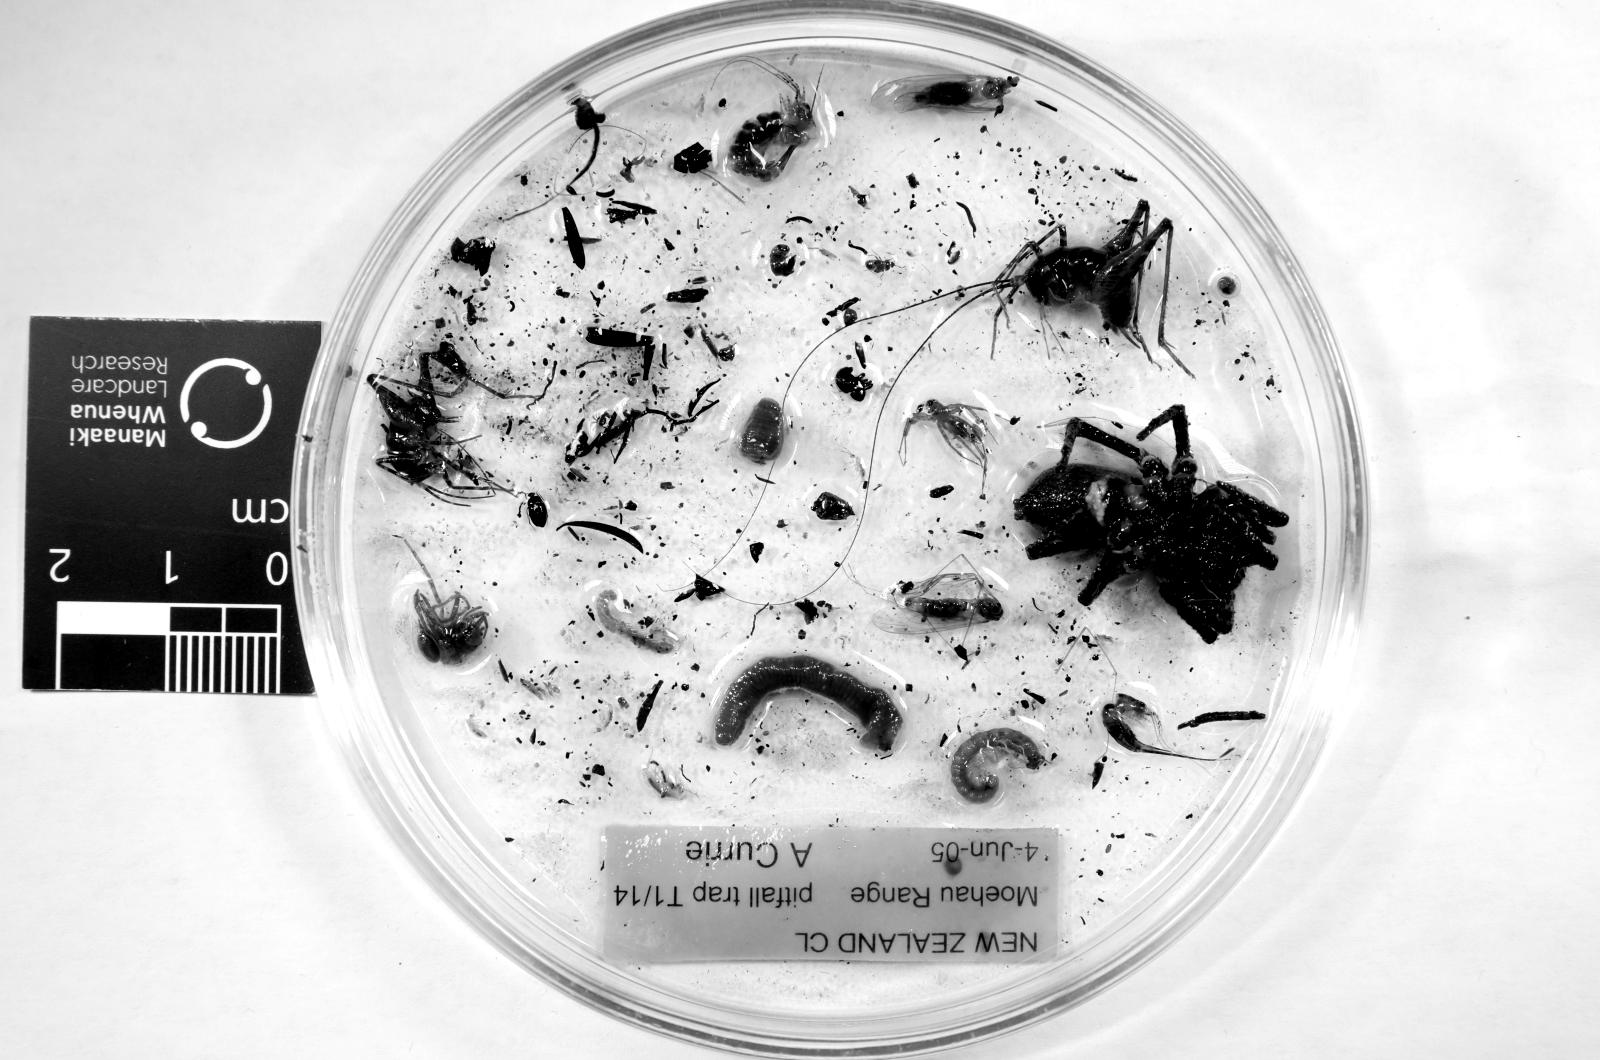annelida: (715, 655, 903, 751)
araneae: (1016, 403, 1288, 642), (409, 547, 487, 665), (900, 401, 987, 472)
archaeognatha: (728, 93, 816, 180), (1100, 692, 1191, 757)
coleoptera: (835, 367, 872, 401), (525, 493, 546, 528), (866, 258, 894, 273)
diplopoda: (950, 730, 1044, 804)
diptera: (872, 571, 1003, 636), (872, 75, 1018, 111)
orthoptera: (997, 199, 1185, 369), (369, 357, 510, 500)
